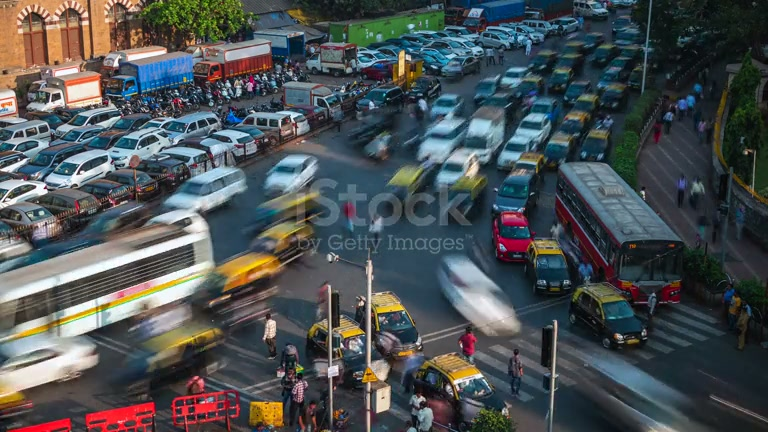bus: (1, 206, 219, 348), (554, 160, 687, 308), (491, 159, 557, 263), (192, 40, 273, 86)
car: (119, 301, 227, 390), (435, 252, 523, 339), (405, 352, 499, 430), (0, 332, 100, 396), (567, 281, 649, 349), (162, 165, 249, 217), (369, 290, 424, 361), (39, 148, 114, 191), (1, 202, 67, 247), (524, 238, 574, 295), (141, 143, 213, 181), (262, 153, 321, 196), (89, 169, 160, 203), (109, 133, 163, 169), (208, 127, 259, 163)
pedestrian: (289, 372, 309, 429), (735, 302, 752, 351), (507, 348, 524, 397), (262, 312, 278, 358), (458, 327, 477, 361), (415, 397, 434, 431)
